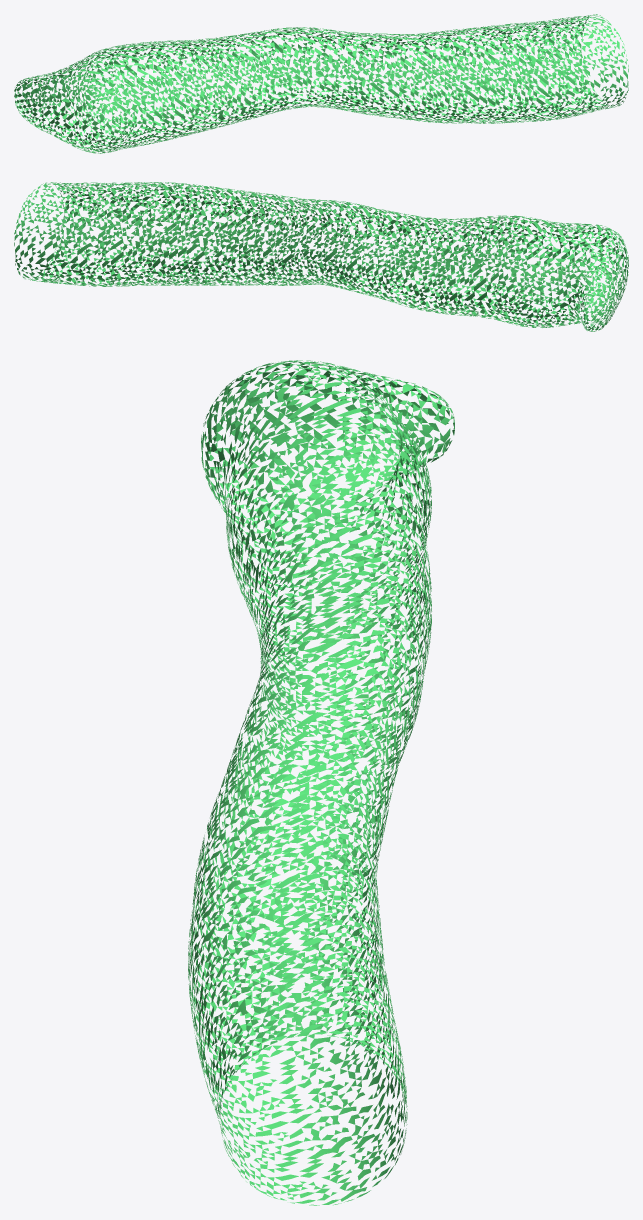
File: morph_020.glb
3 renders of one model, top to bottom at view 1: azimuth 30°, elevation 25°; view 2: azimuth 150°, elevation 25°; view 3: azimuth 270°, elevation 25°, orthographic. The views are drawn at different scales.
Bounding box in the file's own units: 103 × 29.31 × 21.11.
